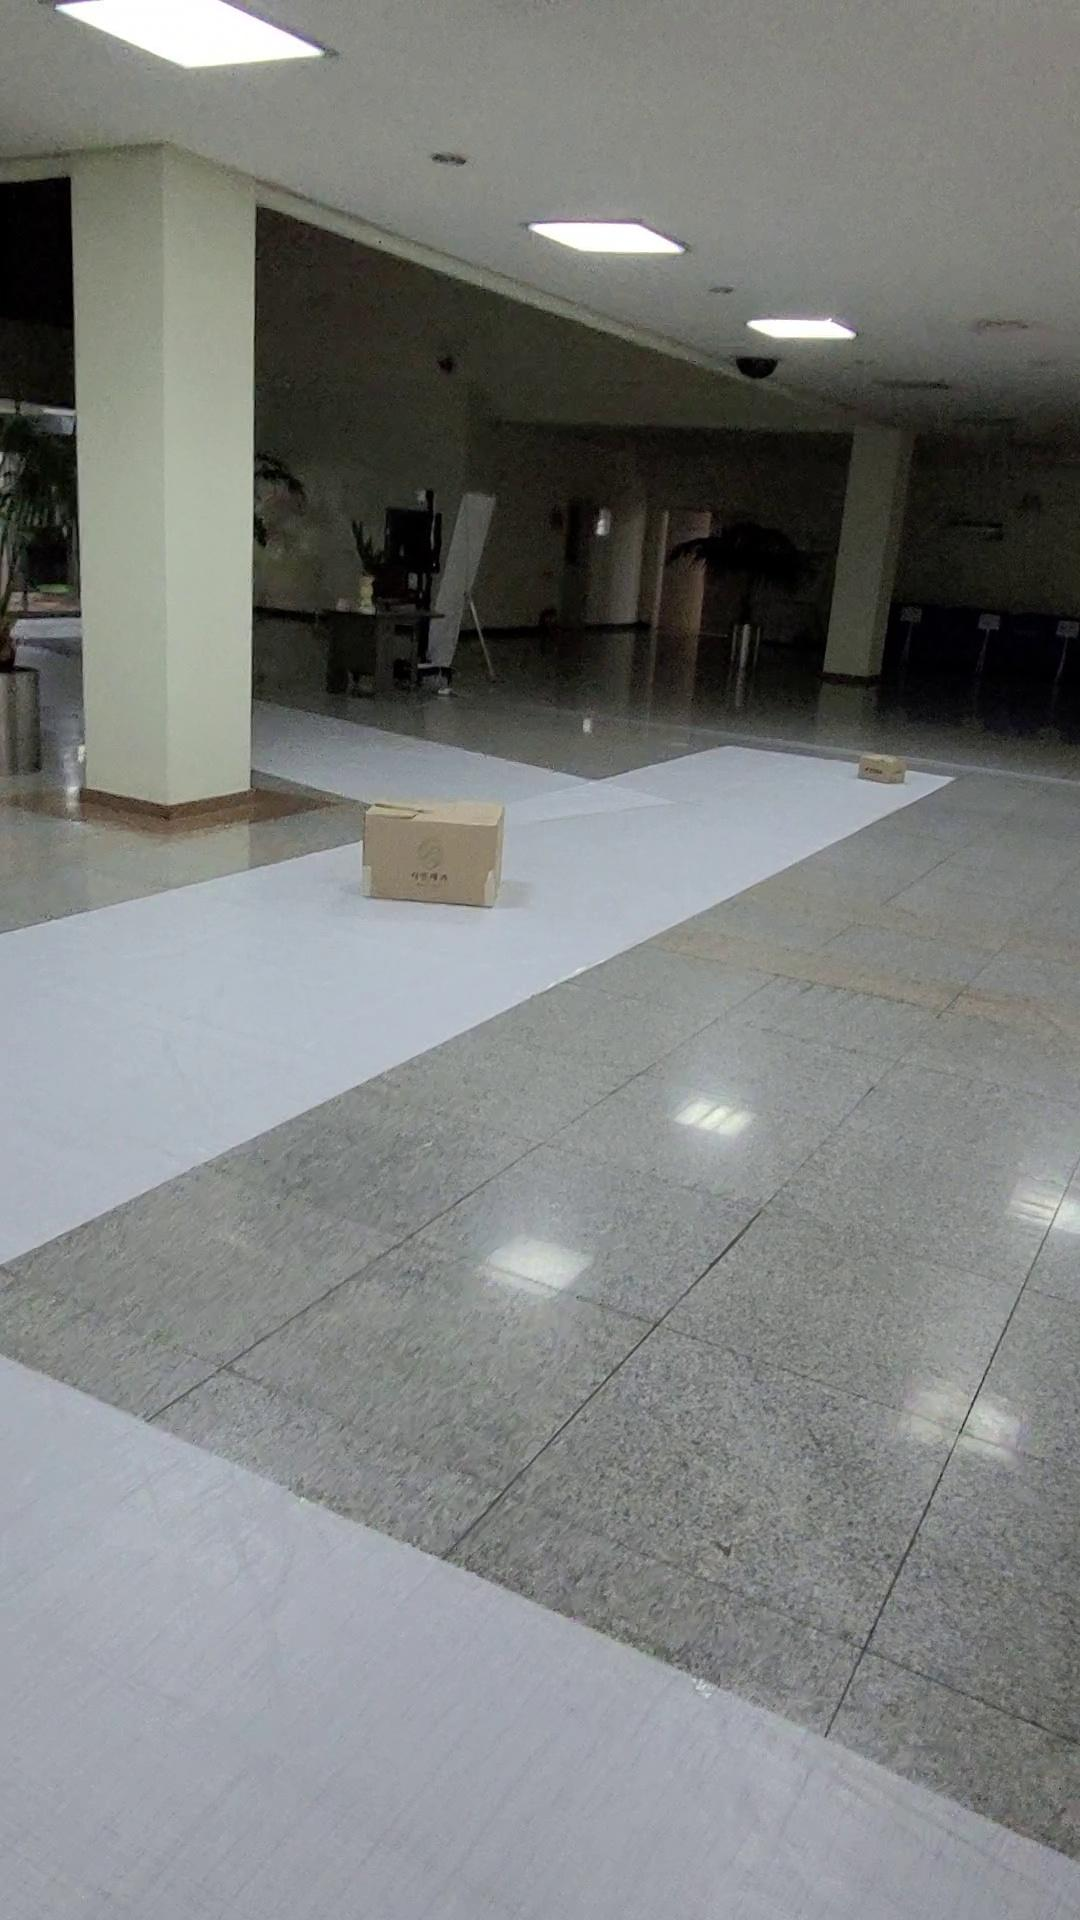Box: (334, 748, 545, 949), (858, 740, 938, 810)
